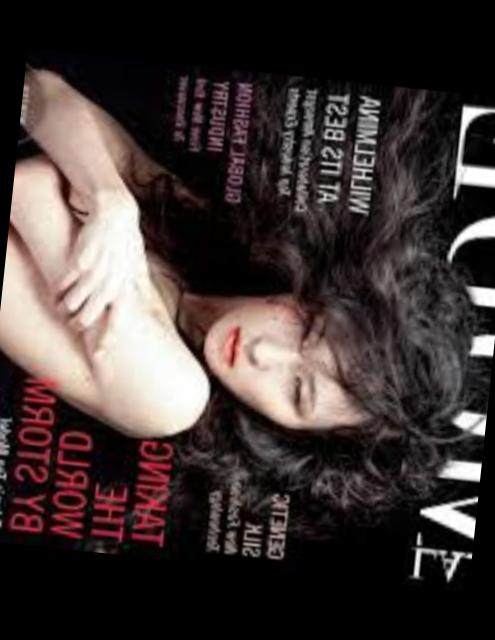cardboard paper: (0, 48, 495, 592)
